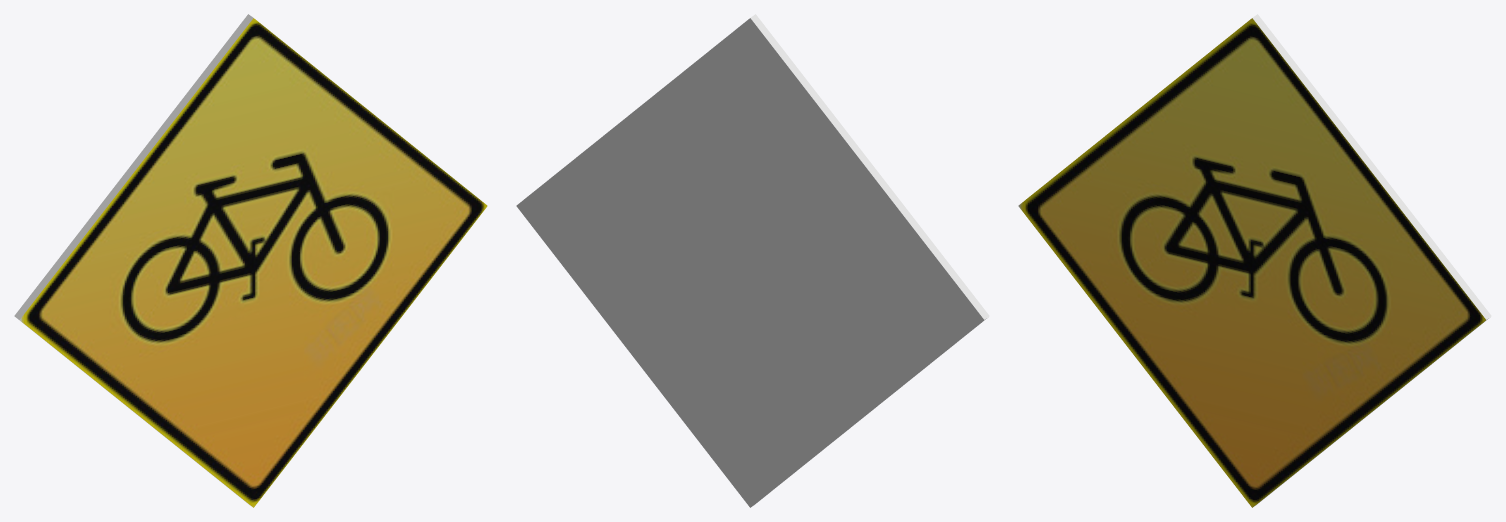
The model's file is Diamond.gltf.
The picture shows the model from 3 angles, left to right: view 1: azimuth 30°, elevation 25°; view 2: azimuth 150°, elevation 25°; view 3: azimuth 330°, elevation 25°; orthographic projection.
Parts seen in each view (by area): view 1: SignNode; view 2: SignNode; view 3: SignNode.
Boxes of the visible parts, box(x1,y1,x2,y2) form: SignNode: box(14, 14, 487, 507); SignNode: box(516, 14, 989, 507); SignNode: box(1018, 14, 1491, 507).
Size of the model in its own units: 1 by 1 by 0.02.
Materials: 2 (1 with a texture image).
